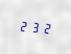three: (30, 19, 40, 34)
two: (18, 18, 28, 33), (41, 20, 51, 35)
